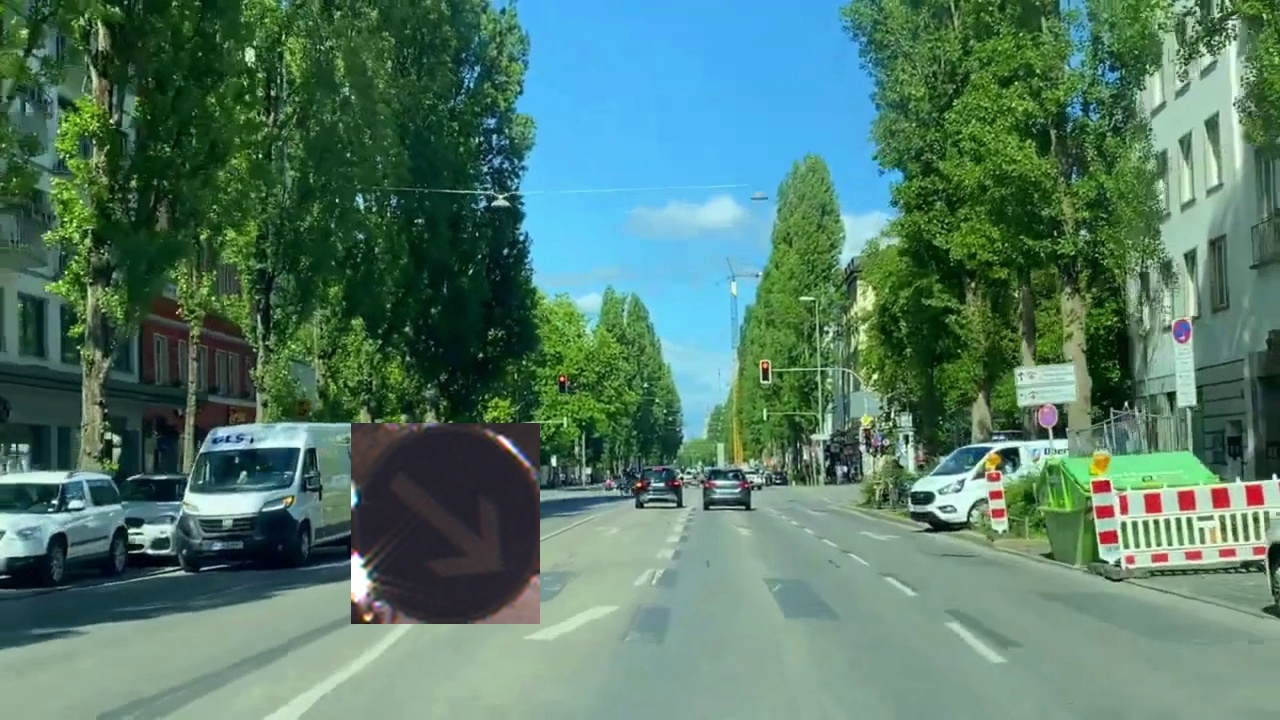Keep right: (351, 423, 540, 624)
